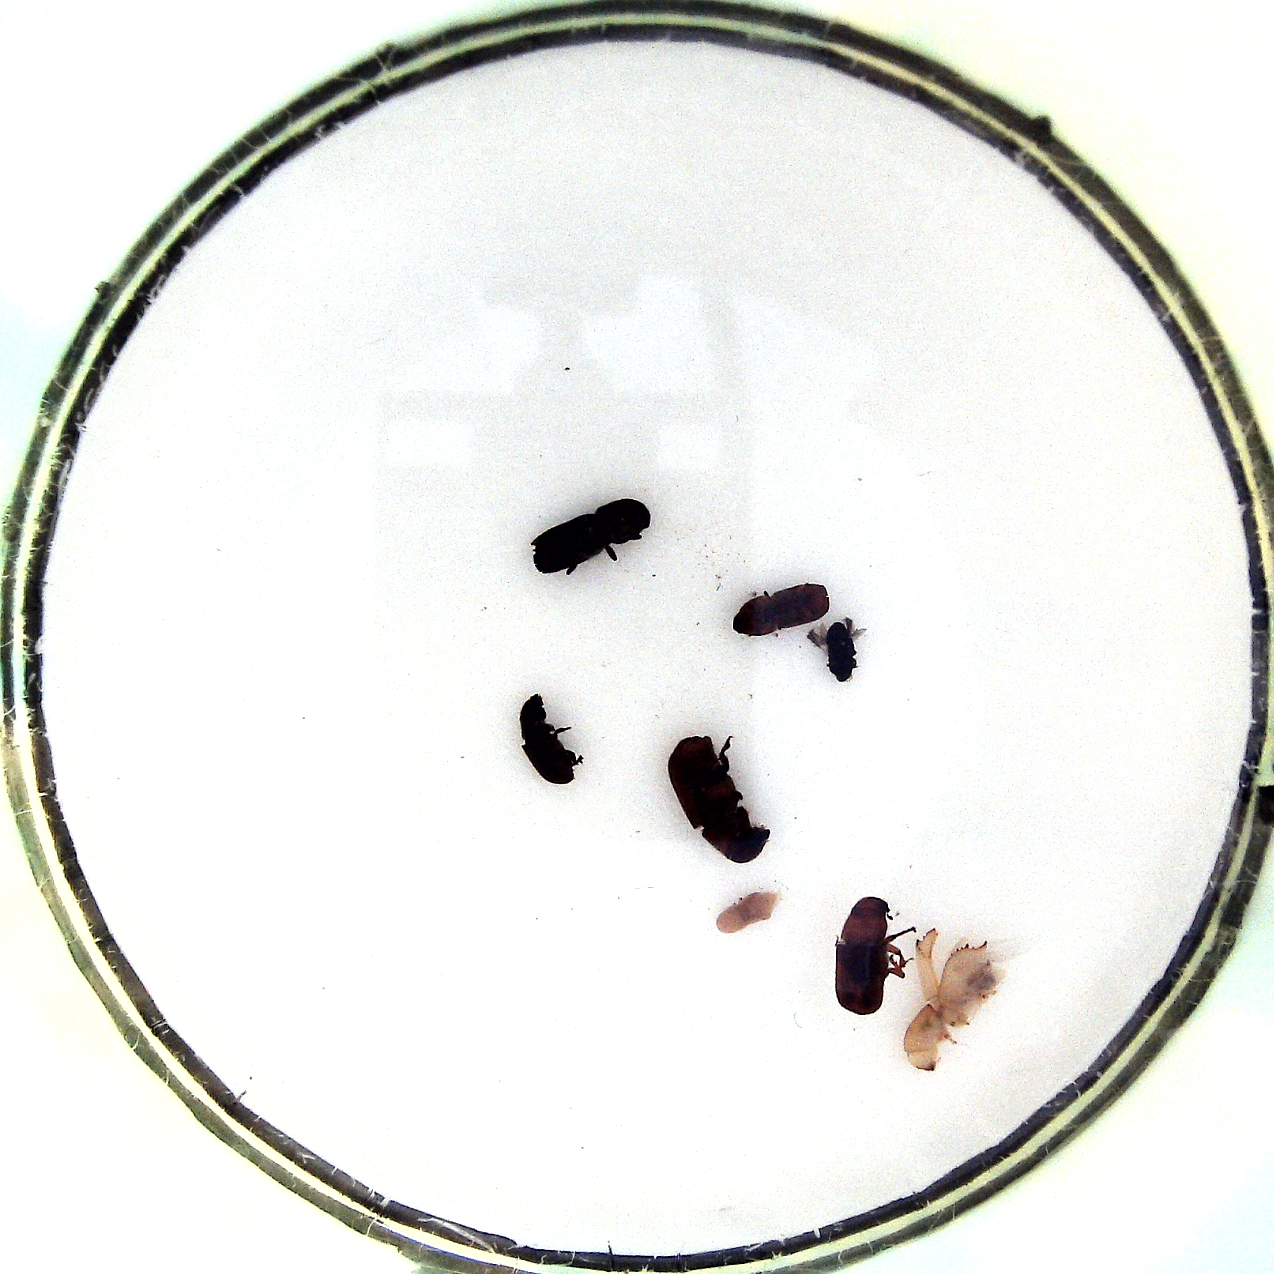Boerner: (902, 923, 1009, 1074), (525, 498, 654, 575)
Leconte: (666, 731, 772, 868), (827, 896, 917, 1019)
Linnaeus: (724, 582, 829, 640)
acuminatus: (712, 882, 784, 942)
armandi: (512, 691, 586, 793)
coleoptera: (800, 621, 868, 682)
